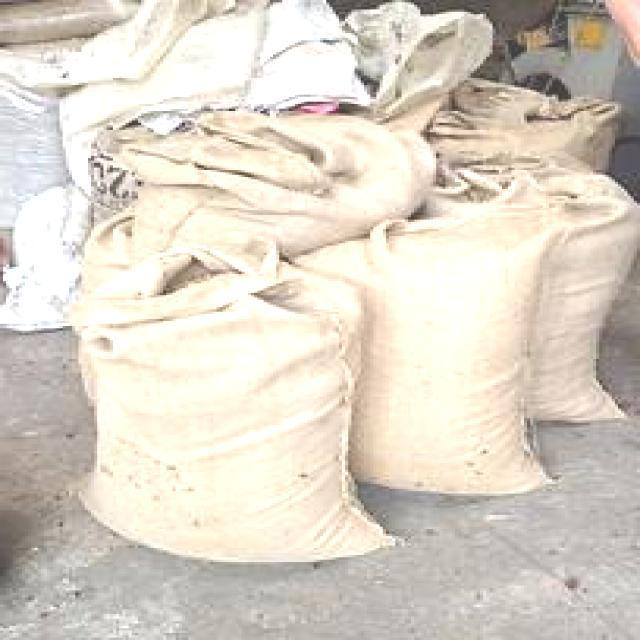gunny_bag: (65, 244, 404, 573), (295, 202, 573, 496), (435, 154, 637, 422)
